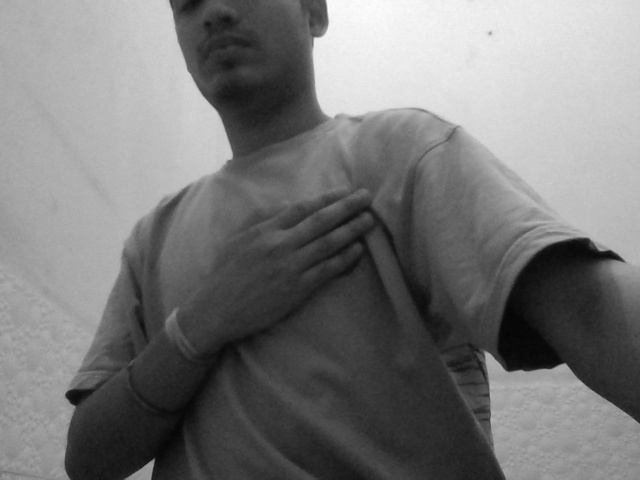Sorry: (185, 181, 387, 361)
